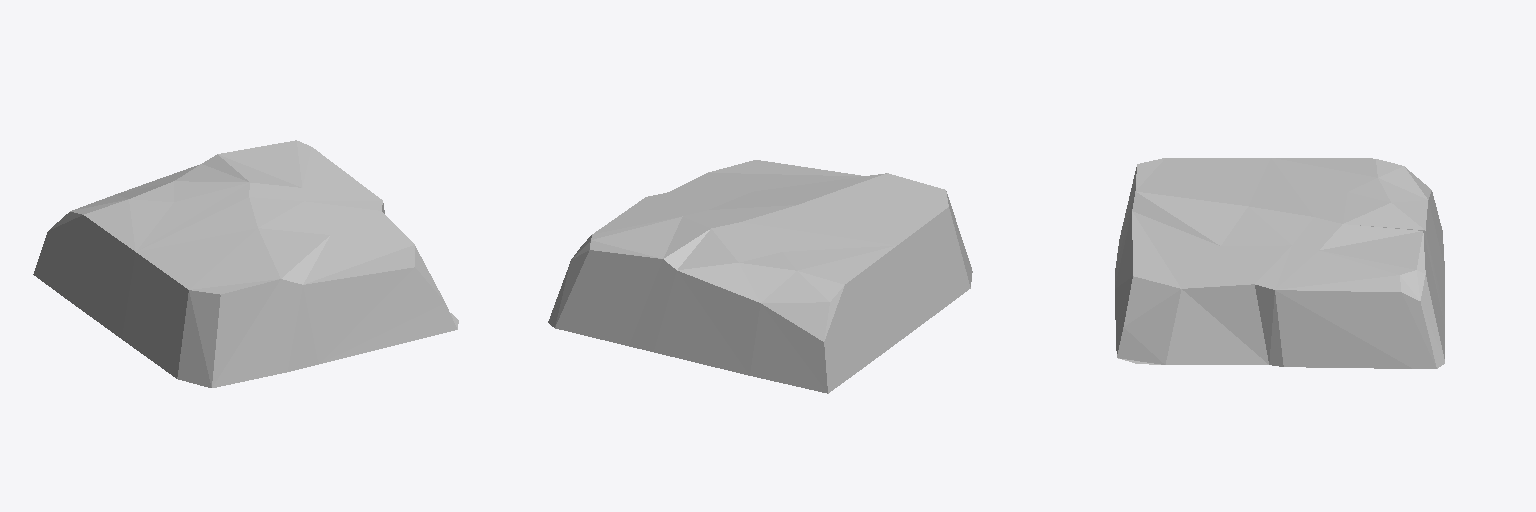
File: Pebble_Square_1.obj
3 renders of one model, left to right at view 1: azimuth 30°, elevation 25°; view 2: azimuth 150°, elevation 25°; view 3: azimuth 270°, elevation 25°, orthographic.
Parts seen in each view (by area): view 1: Pebble_Square_1; view 2: Pebble_Square_1; view 3: Pebble_Square_1.
Part boxes in pixels (x1,y1,x2,y2): Pebble_Square_1: (33, 140, 458, 387); Pebble_Square_1: (548, 160, 972, 393); Pebble_Square_1: (1115, 158, 1444, 368).
Size of the model in its own units: 0.4346 by 0.1299 by 0.4396.